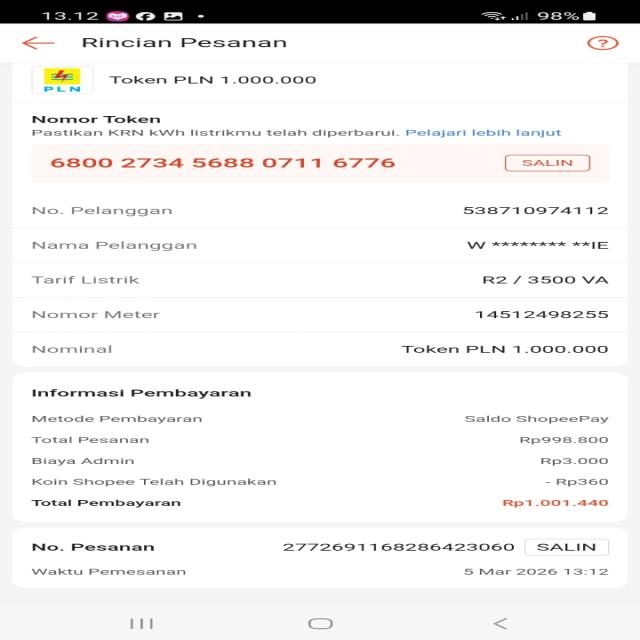date: (459, 565, 616, 579)
store: (100, 73, 322, 91)
total: (26, 496, 611, 509)
